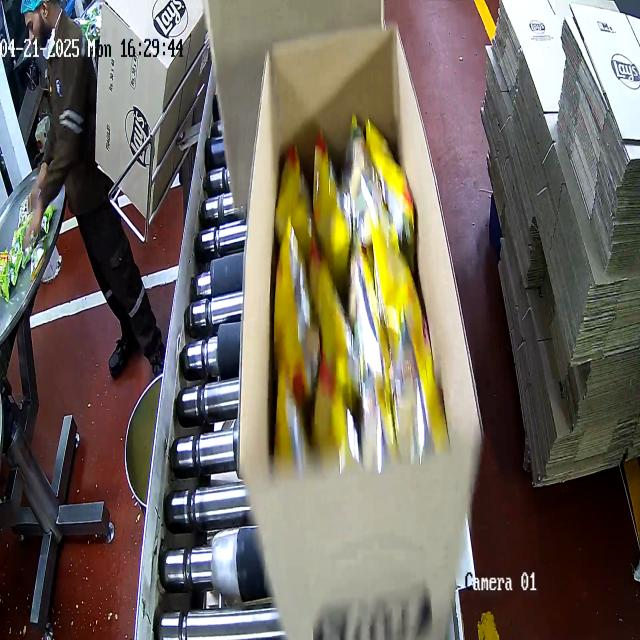SALTED: (267, 133, 444, 456)
